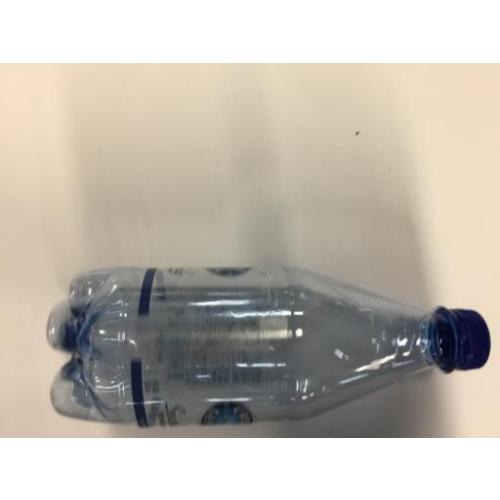plastic: (46, 270, 491, 430)
